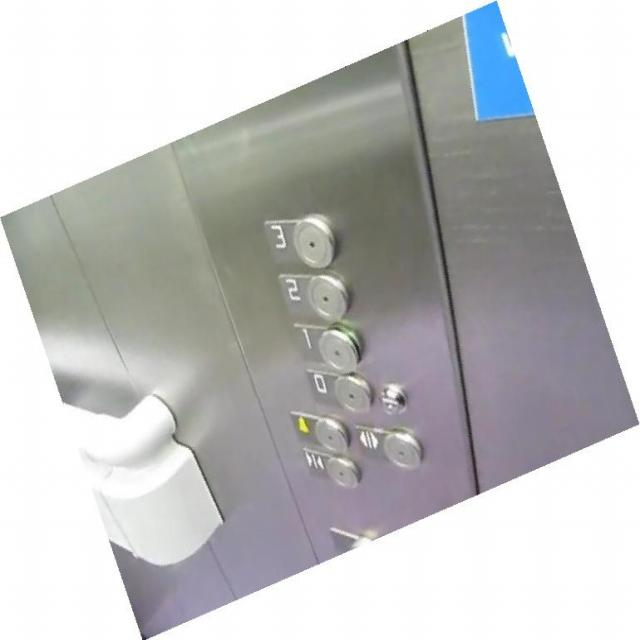0: (301, 366, 374, 415)
1: (289, 321, 363, 372)
2: (275, 268, 351, 324)
3: (259, 210, 339, 271)
alarm: (286, 408, 352, 454)
close: (298, 444, 362, 492)
open: (351, 422, 424, 471)
